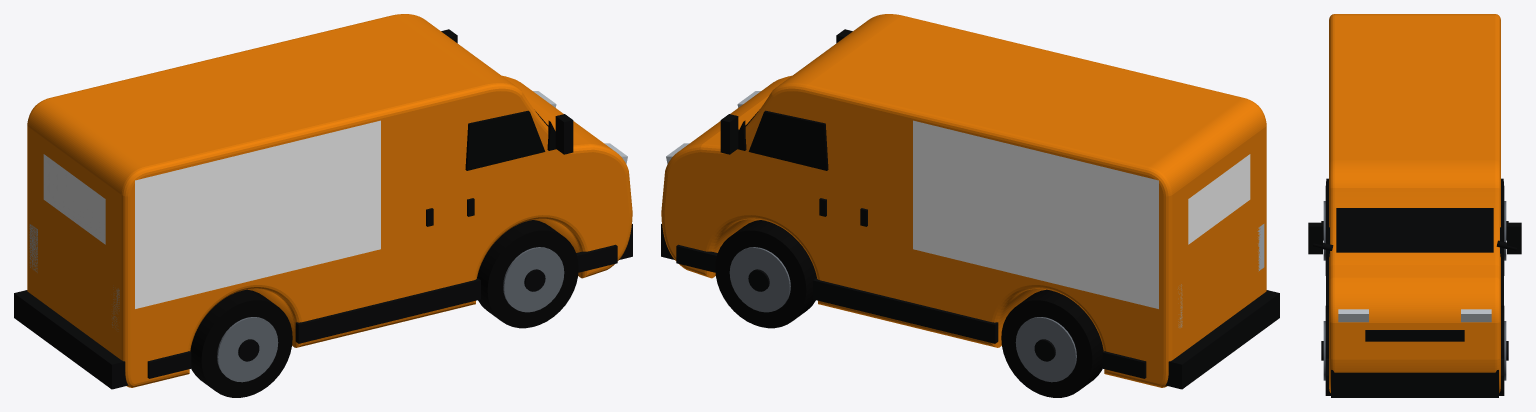
The model's file is panel-van-min.obj.
3 renders of one model, left to right at view 1: azimuth 30°, elevation 25°; view 2: azimuth 150°, elevation 25°; view 3: azimuth 270°, elevation 25°, orthographic. The views are drawn at different scales.
Visible parts, largest first — view 1: body_shell, brand_decal_r, tire_rear_r, tire_front_r, rocker_r, rear_bumper, door_window_r, brand_decal_rear, rim_front_r, rim_rear_r, fender_trim_r_r, fender_trim_f_r (+1 smaller); view 2: body_shell, brand_decal_l, tire_rear_l, tire_front_l, rocker_l, rear_bumper, door_window_l, brand_decal_rear, rim_front_l, rim_rear_l, fender_trim_r_l, fender_trim_f_l (+1 smaller); view 3: body_shell, windshield, front_bumper, grille, mirror_r, mirror_l, headlight_r, headlight_l, tire_front_r, tire_front_l.
Boxes of the visible parts, x1,y1,x2,y2 form: body_shell: [27, 14, 632, 387]; brand_decal_r: [135, 120, 380, 308]; tire_rear_r: [190, 289, 292, 397]; tire_front_r: [477, 220, 578, 328]; rocker_r: [295, 278, 480, 343]; rear_bumper: [14, 290, 128, 389]; door_window_r: [465, 110, 545, 170]; brand_decal_rear: [43, 154, 105, 244]; rim_front_r: [503, 247, 564, 312]; rim_rear_r: [217, 317, 278, 382]; fender_trim_r_r: [147, 351, 191, 378]; fender_trim_f_r: [576, 244, 617, 272]; body_shell: [661, 14, 1266, 387]; brand_decal_l: [913, 120, 1158, 308]; tire_rear_l: [1001, 289, 1103, 397]; tire_front_l: [715, 220, 816, 328]; rocker_l: [813, 278, 998, 343]; rear_bumper: [1165, 290, 1279, 389]; door_window_l: [748, 110, 828, 170]; brand_decal_rear: [1188, 154, 1250, 244]; rim_front_l: [729, 247, 790, 312]; rim_rear_l: [1015, 317, 1076, 382]; fender_trim_r_l: [1102, 351, 1146, 378]; fender_trim_f_l: [676, 244, 717, 272]; body_shell: [1329, 14, 1500, 392]; windshield: [1336, 208, 1493, 252]; front_bumper: [1331, 370, 1498, 397]; grille: [1365, 330, 1464, 341]; mirror_r: [1308, 222, 1322, 254]; mirror_l: [1507, 222, 1521, 254]; headlight_r: [1338, 309, 1368, 322]; headlight_l: [1461, 309, 1491, 322]; tire_front_r: [1325, 305, 1330, 395]; tire_front_l: [1499, 305, 1504, 395].
Size of the model in its own units: 5.73 by 2.62 by 2.36.
